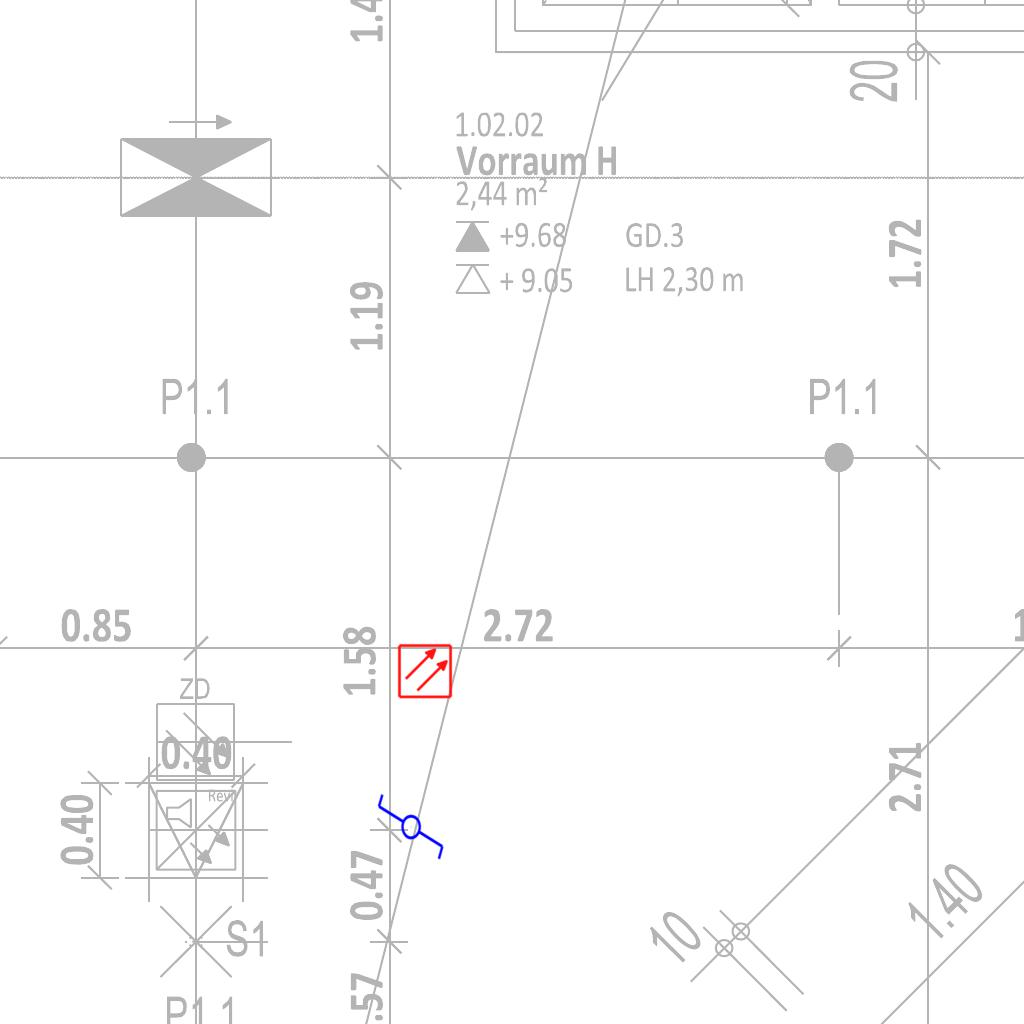RMO_Rauchmelder_optischer: (397, 643, 453, 699)
Wechselschalter: (374, 792, 446, 870)
